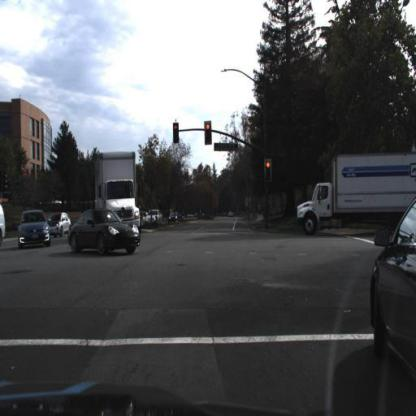car: (369, 190, 416, 412), (371, 189, 416, 373), (65, 206, 144, 261), (17, 208, 52, 248), (46, 211, 73, 239)
trafficLight-Red: (263, 159, 275, 188), (204, 120, 214, 147)
trafficLight-RedLeft: (172, 121, 180, 147)
truck: (297, 150, 415, 241), (93, 150, 141, 234)
